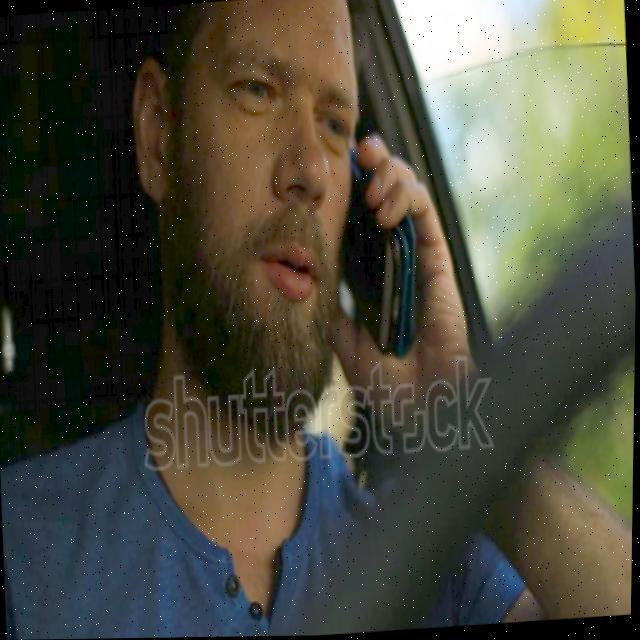PhoneCall: (339, 144, 421, 363)
